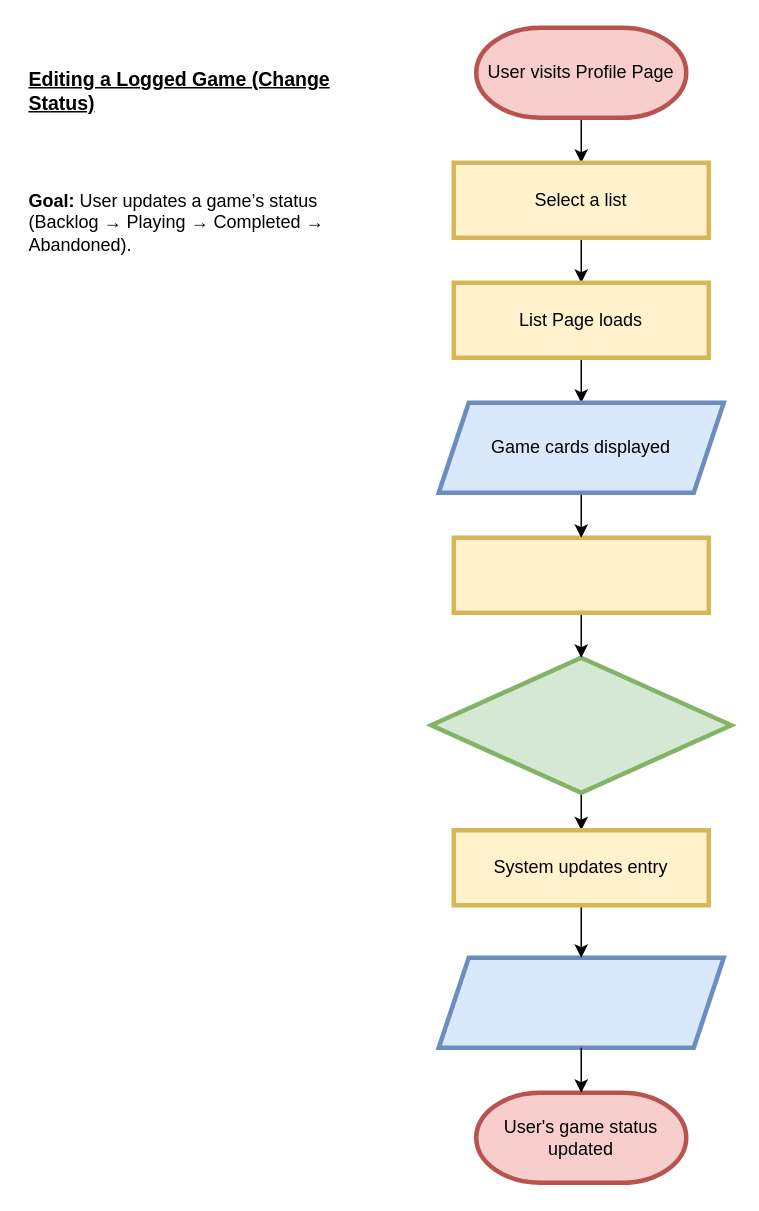
The diagram is 759 pixels wide and 1211 high, and some of its shapes have lost their labels. The shapes that lost their labels are listed below. From the top down, each one's centre as x and y in pixels, then its label:
At [580,574]: "User opens status dropdown".
At [580,724]: "User chooses a status (e.g. Completed)".
At [580,1002]: "Updated status displayed".
